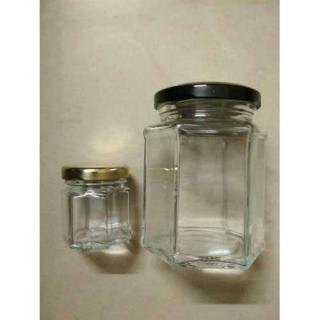GLASS: (137, 80, 276, 271), (54, 160, 136, 251)
